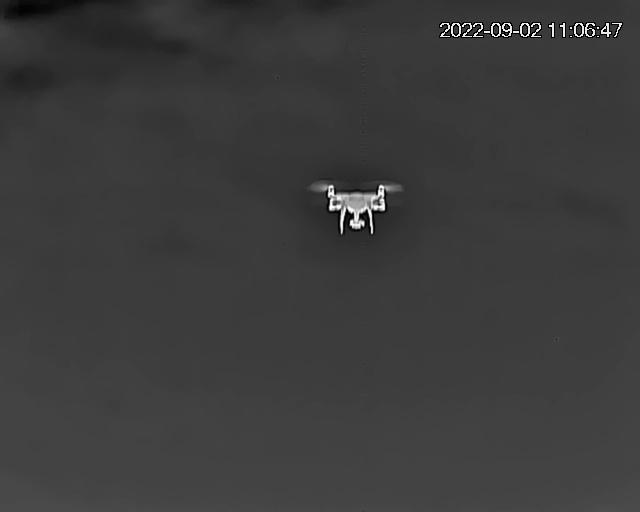DJI-Phantom: (309, 179, 403, 234)
